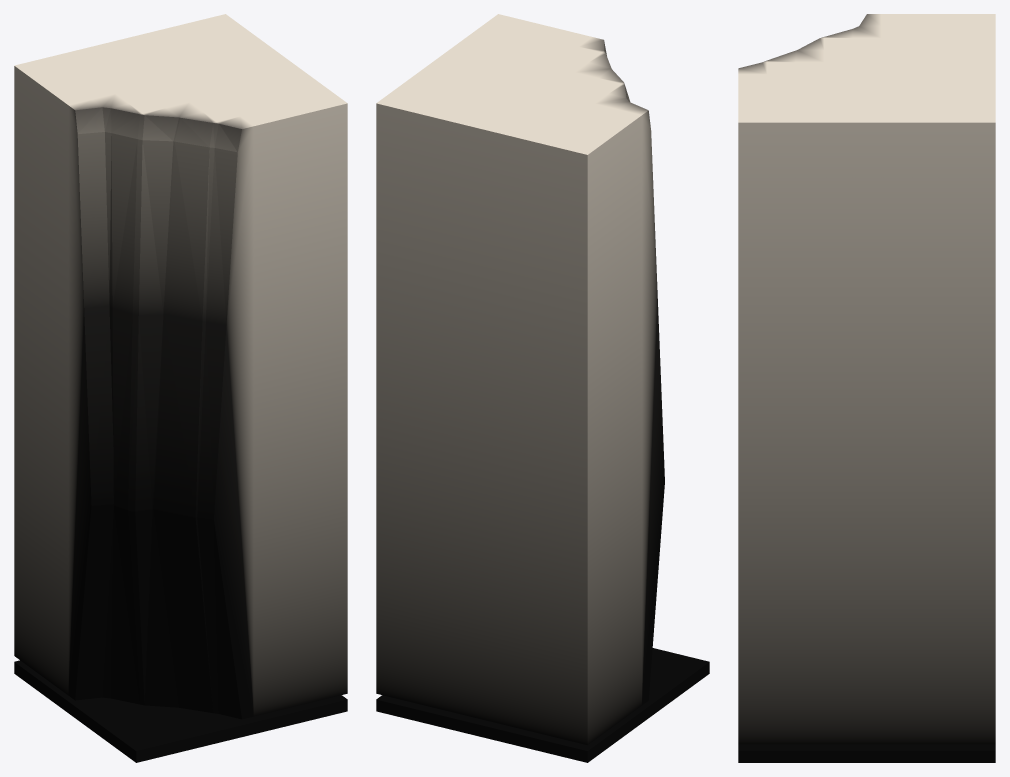
File: SM_VKI_Ground_Cave_XOOO_Q01.fbx
The picture shows the model from 3 angles, left to right: view 1: azimuth 30°, elevation 25°; view 2: azimuth 150°, elevation 25°; view 3: azimuth 270°, elevation 25°; orthographic projection. The views are drawn at different scales.
Parts seen in each view (by area): view 1: SM_VKI_Ground_Cave_XOOO_Q01.001; view 2: SM_VKI_Ground_Cave_XOOO_Q01.001; view 3: SM_VKI_Ground_Cave_XOOO_Q01.001.
Part boxes in pixels (x1,y1,x2,y2): SM_VKI_Ground_Cave_XOOO_Q01.001: (14, 14, 347, 762); SM_VKI_Ground_Cave_XOOO_Q01.001: (376, 14, 709, 762); SM_VKI_Ground_Cave_XOOO_Q01.001: (738, 14, 995, 762).
Size of the model in its own units: 1.5 by 4.12 by 1.5.
